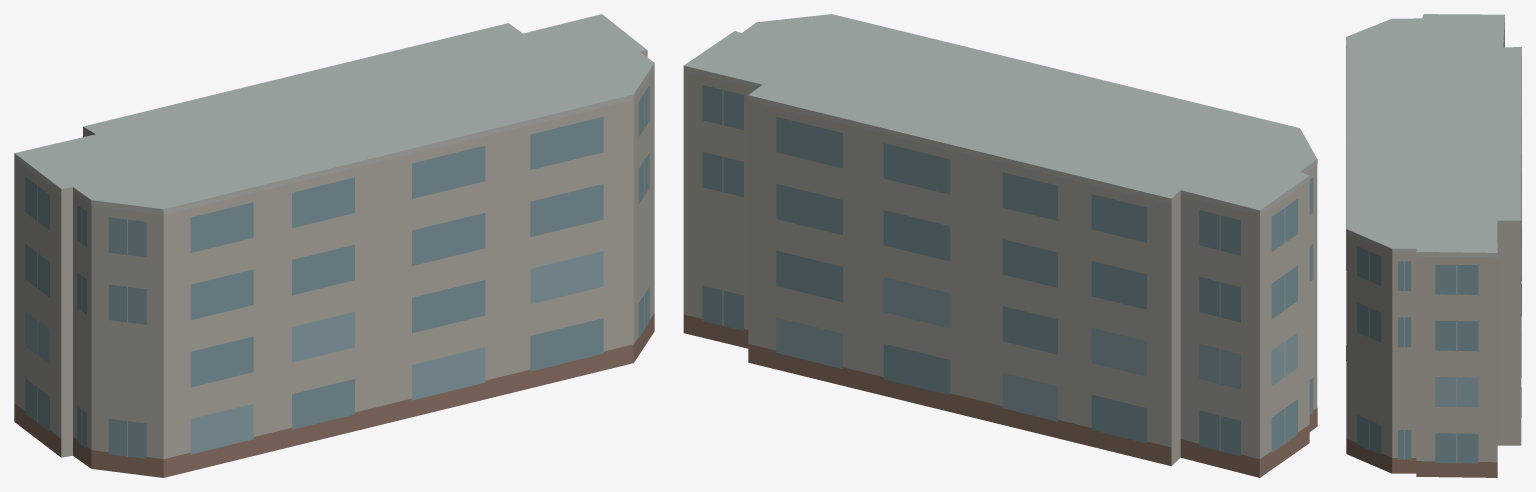
The model's file is survey-upis-32632956.glb.
3 renders of one model, left to right at view 1: azimuth 30°, elevation 25°; view 2: azimuth 150°, elevation 25°; view 3: azimuth 270°, elevation 25°, orthographic. The views are drawn at different scales.
Parts seen in each view (by area): view 1: survey-upis-32632956.tmp; view 2: survey-upis-32632956.tmp; view 3: survey-upis-32632956.tmp.
Part boxes in pixels (bbox=[...]): survey-upis-32632956.tmp: bbox=[14, 14, 654, 477]; survey-upis-32632956.tmp: bbox=[683, 14, 1317, 477]; survey-upis-32632956.tmp: bbox=[1346, 14, 1521, 477].
Size of the model in its own units: 27.12 by 11.9 by 8.44.
